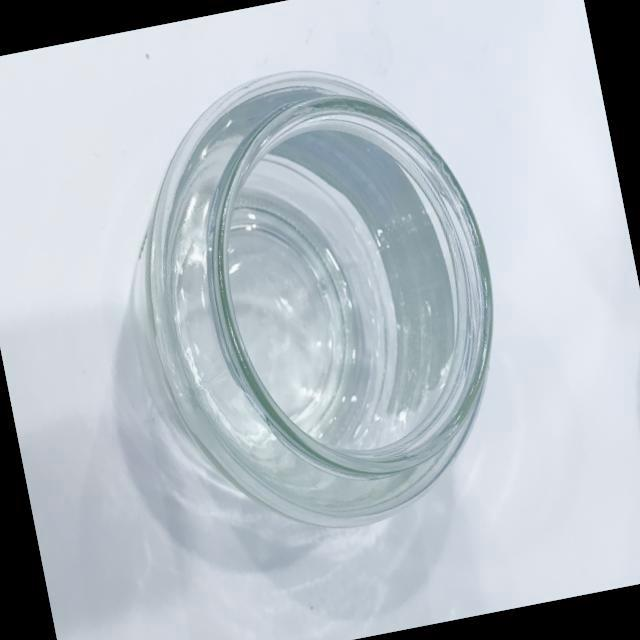glass: (60, 26, 549, 580)
